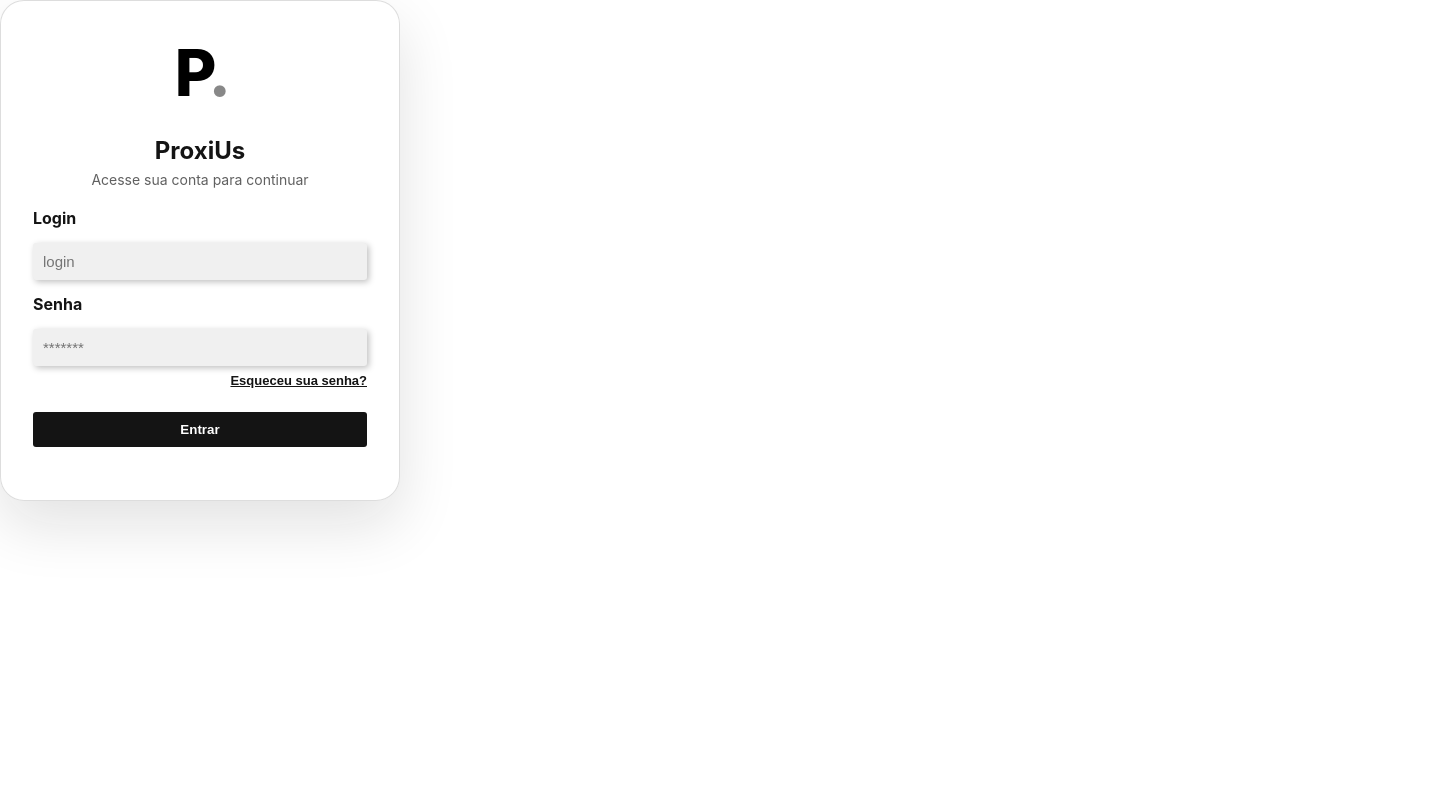
keeps login unauthenticated and shows an error when loading user data fails
Type "usuario" into the field with placeholder "login" at (200, 261), box [33, 243, 367, 280]
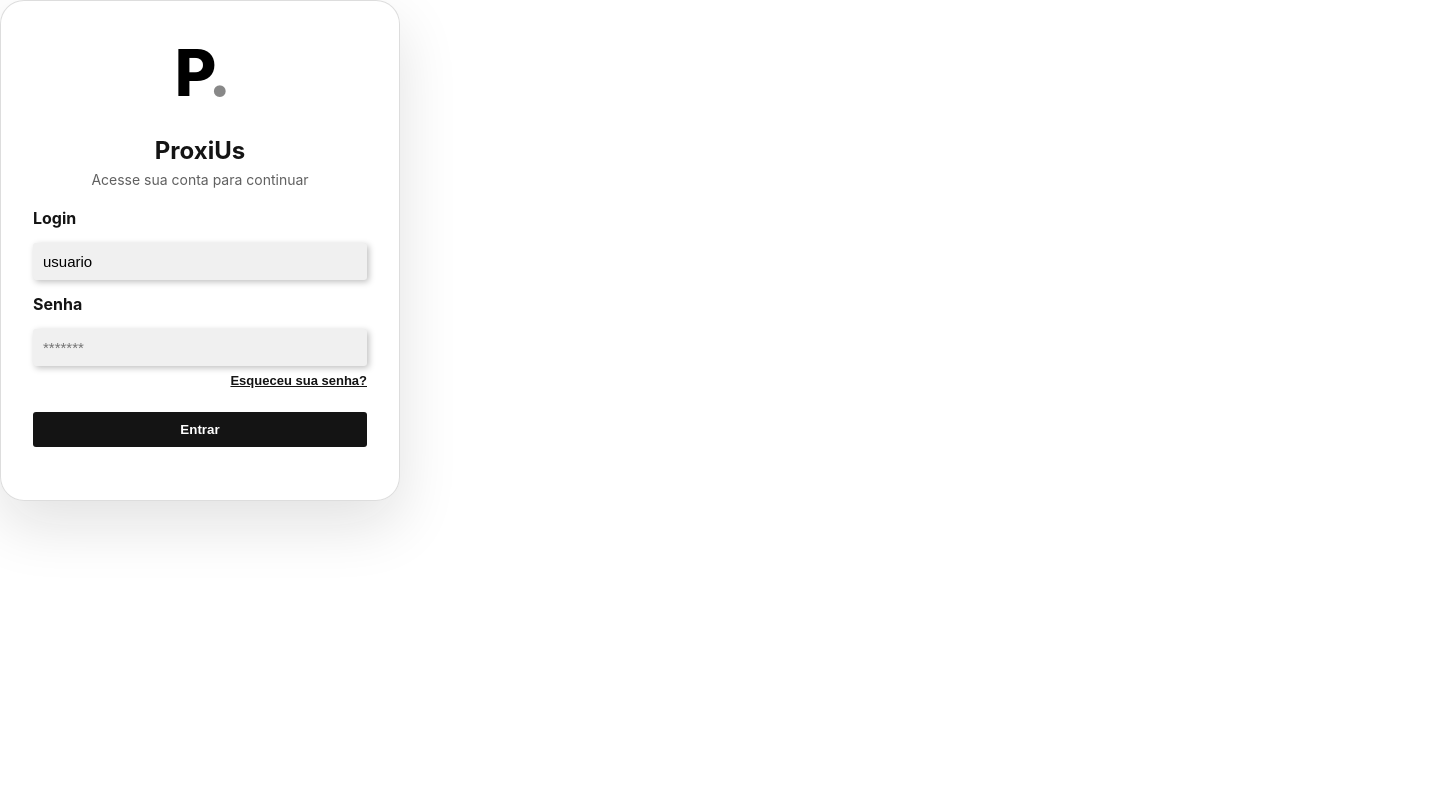
Type "senha" into the password field with placeholder "*******" at (200, 347), box [33, 329, 367, 366]
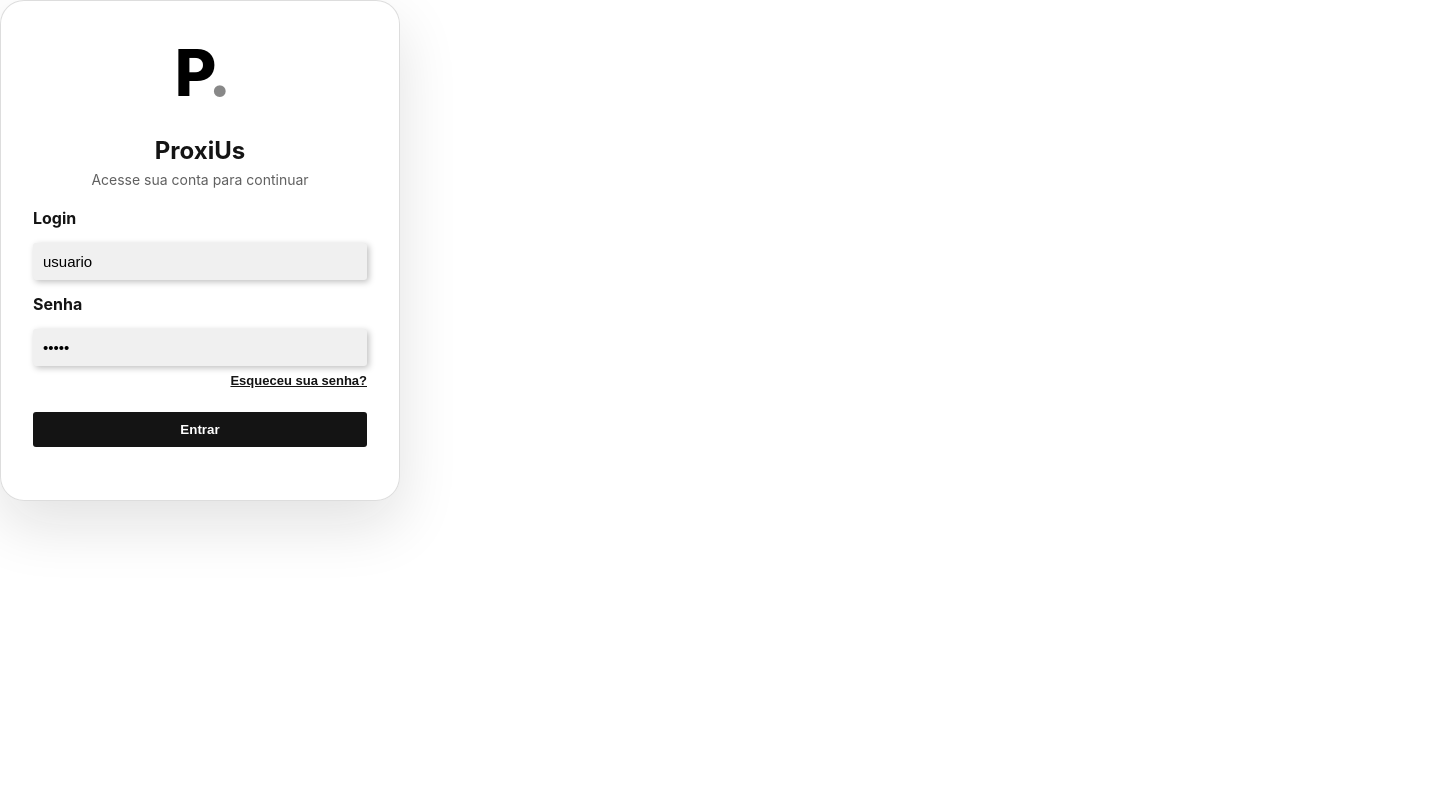
Click the button "Entrar" at (200, 429), box [33, 412, 367, 446]
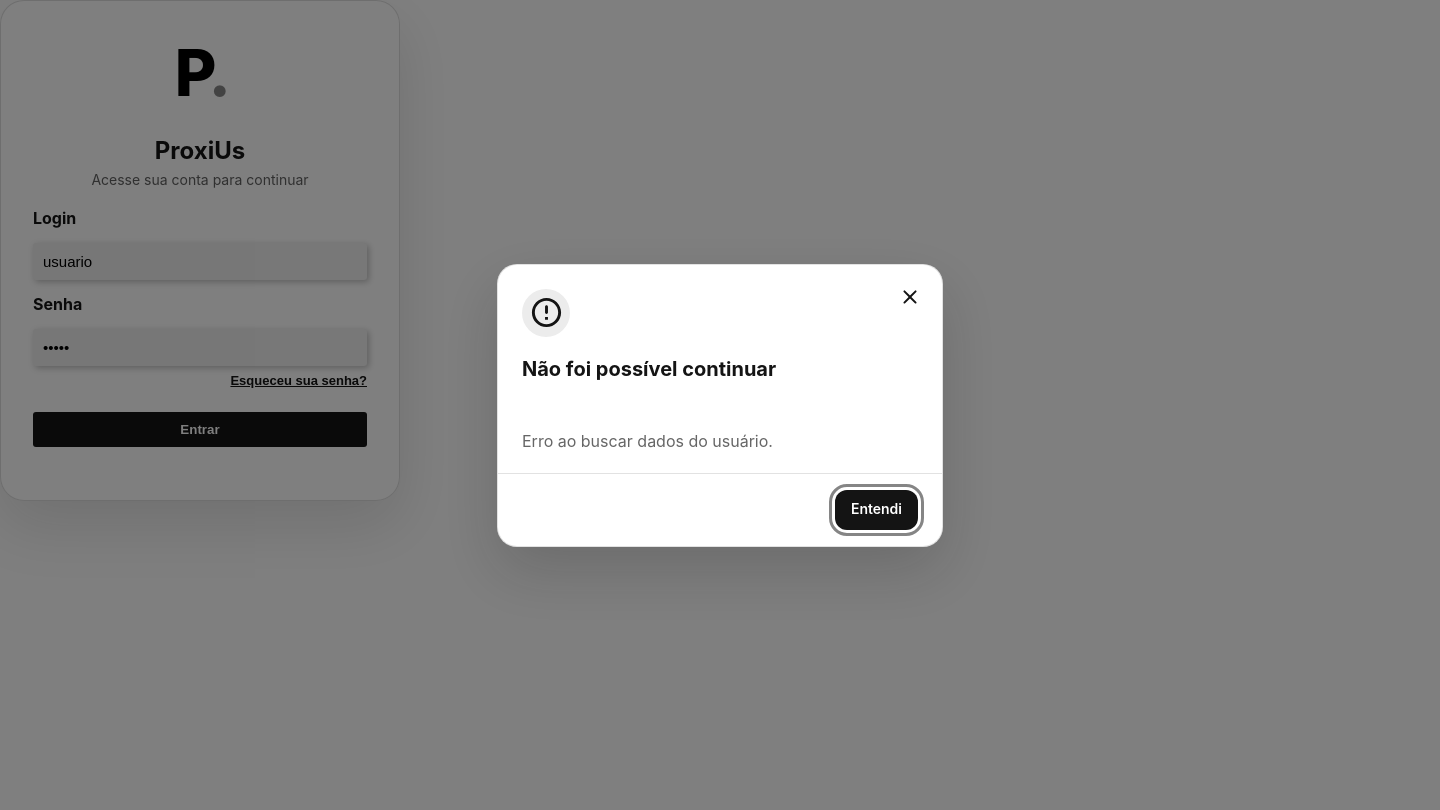
Check: the dialog shows "Erro ao buscar dados do usuário.", box [522, 430, 773, 450]
